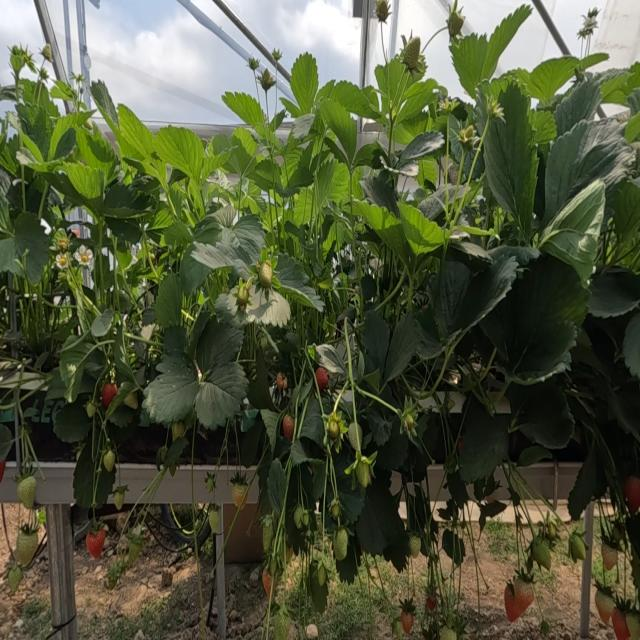Flowers: (577, 7, 599, 58), (74, 246, 93, 267), (55, 253, 68, 270)
Leaves: (480, 255, 586, 381), (545, 119, 634, 225), (483, 85, 538, 238), (431, 259, 518, 338), (458, 394, 510, 483), (356, 484, 407, 569), (144, 351, 198, 425), (517, 380, 574, 447), (481, 4, 531, 79), (195, 362, 247, 429), (118, 105, 165, 179), (73, 430, 113, 508), (180, 219, 221, 295), (154, 126, 203, 187), (7, 212, 49, 283), (59, 335, 103, 400), (360, 202, 409, 259), (275, 254, 323, 310), (554, 76, 599, 135), (383, 313, 420, 384), (587, 269, 639, 318), (196, 319, 243, 373), (191, 241, 256, 279), (58, 162, 102, 217), (216, 215, 265, 264), (451, 33, 487, 99), (398, 203, 443, 255), (311, 159, 349, 219), (320, 99, 355, 164), (528, 56, 577, 102), (222, 92, 267, 138), (568, 446, 596, 519), (90, 80, 121, 145), (49, 112, 91, 159), (393, 78, 436, 123), (335, 460, 365, 524), (245, 286, 290, 327), (53, 395, 91, 443), (329, 81, 377, 119), (376, 59, 410, 112), (362, 309, 390, 371), (291, 53, 319, 114), (361, 171, 398, 217), (613, 183, 640, 246), (450, 116, 475, 181), (376, 419, 407, 471), (397, 132, 443, 167), (228, 127, 258, 180), (16, 146, 73, 172), (414, 307, 443, 358), (155, 273, 182, 327), (78, 127, 116, 164), (203, 135, 233, 181), (104, 184, 149, 213), (145, 203, 175, 246), (301, 396, 323, 447), (623, 313, 640, 379), (267, 459, 287, 515), (418, 184, 446, 220), (314, 345, 346, 376), (215, 294, 245, 327), (250, 159, 280, 190), (530, 110, 556, 145), (165, 436, 186, 475), (293, 185, 312, 226), (164, 220, 192, 247), (281, 153, 302, 185), (163, 325, 187, 352), (91, 309, 113, 337), (290, 114, 314, 139), (211, 204, 235, 226), (290, 440, 310, 465), (313, 462, 326, 500), (323, 222, 337, 251), (447, 183, 465, 204), (472, 157, 483, 177)
Strawberries: (511, 575, 534, 620), (401, 38, 427, 77), (15, 527, 39, 567), (9, 44, 34, 75), (596, 586, 614, 623), (17, 475, 35, 508), (531, 538, 550, 569), (623, 477, 639, 513), (86, 528, 105, 558), (447, 6, 464, 38), (569, 530, 585, 562), (612, 609, 629, 639), (258, 68, 276, 96), (274, 609, 290, 639), (262, 515, 274, 555), (601, 541, 617, 570), (101, 382, 117, 409), (333, 529, 347, 559), (356, 459, 370, 487), (8, 565, 22, 592), (348, 422, 361, 451), (460, 125, 475, 149), (328, 413, 341, 440), (258, 261, 271, 287), (233, 484, 247, 508), (293, 505, 308, 527), (282, 415, 294, 441), (315, 367, 327, 391), (401, 612, 414, 634), (208, 507, 219, 532), (102, 450, 115, 471), (376, 1, 389, 22), (236, 287, 249, 308), (403, 412, 415, 433), (262, 570, 271, 595), (317, 561, 326, 586), (129, 543, 140, 563), (248, 55, 260, 73), (409, 536, 419, 557), (113, 491, 124, 510), (440, 627, 456, 639), (41, 44, 51, 63), (330, 500, 340, 518), (86, 401, 96, 418), (38, 523, 45, 545), (206, 474, 215, 491), (276, 374, 287, 387), (426, 596, 435, 611), (286, 546, 294, 562), (271, 49, 282, 60), (1, 461, 5, 479)
